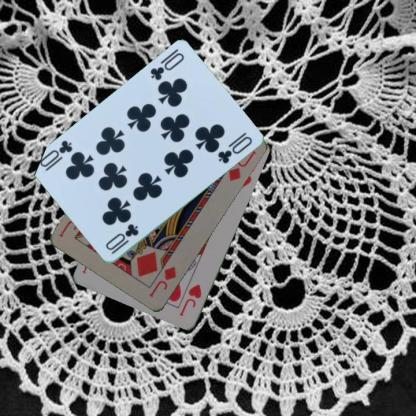10c: (103, 221, 140, 256), (148, 50, 186, 82)
Jd: (146, 264, 178, 299)
Jh: (177, 281, 203, 318)
